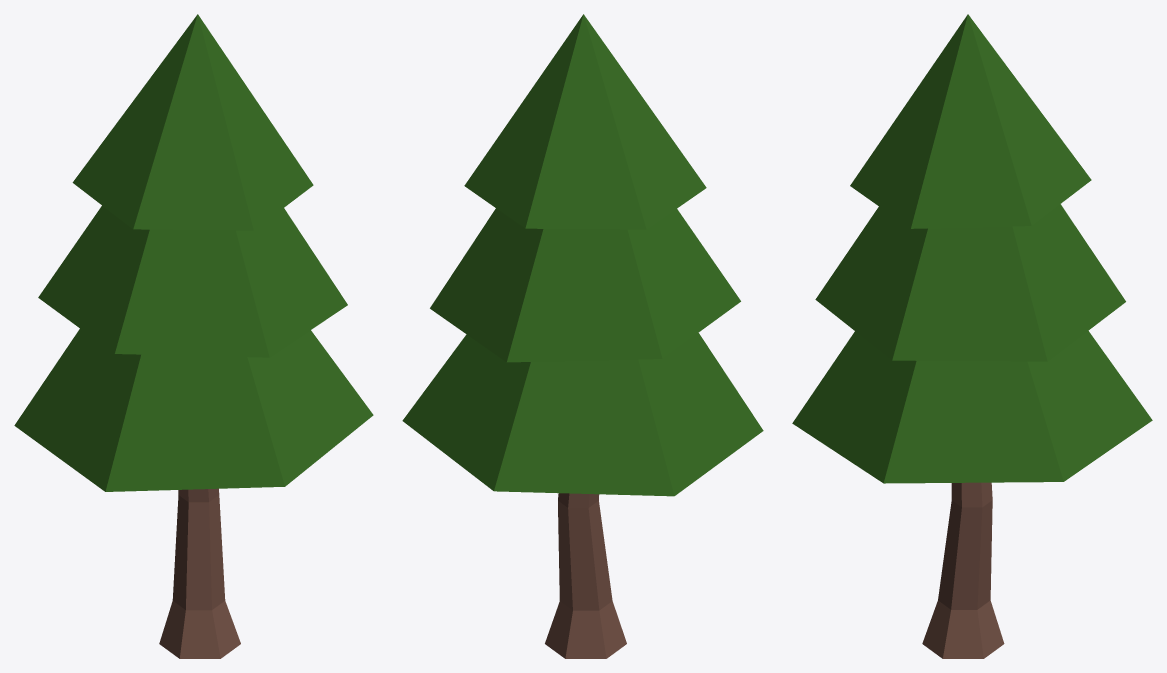
File: Pine_Tree_Small_1.fbx
3 views of the same model, side by side, from view 1: azimuth 30°, elevation 25°; view 2: azimuth 150°, elevation 25°; view 3: azimuth 270°, elevation 25° (orthographic).
Parts seen in each view (by area): view 1: Pine_Tree_Small_1; view 2: Pine_Tree_Small_1; view 3: Pine_Tree_Small_1.
Boxes of the visible parts, x1=… form: Pine_Tree_Small_1: x1=14, y1=14, x2=373, y2=658; Pine_Tree_Small_1: x1=402, y1=14, x2=763, y2=658; Pine_Tree_Small_1: x1=792, y1=14, x2=1152, y2=658.
Bounding box in the file's own units: 701 × 1555 × 807.
Materials: 1 (1 with a texture image).
